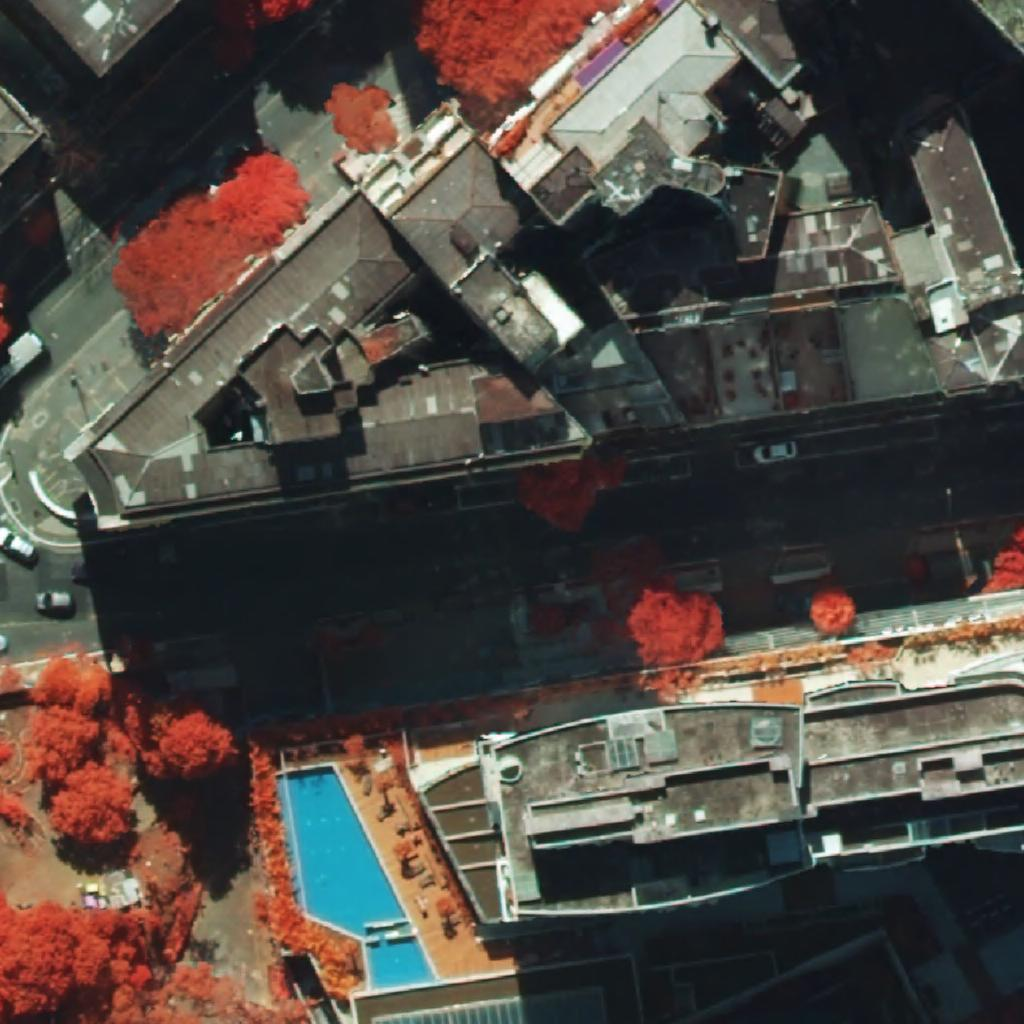pool: (278, 766, 436, 990)
